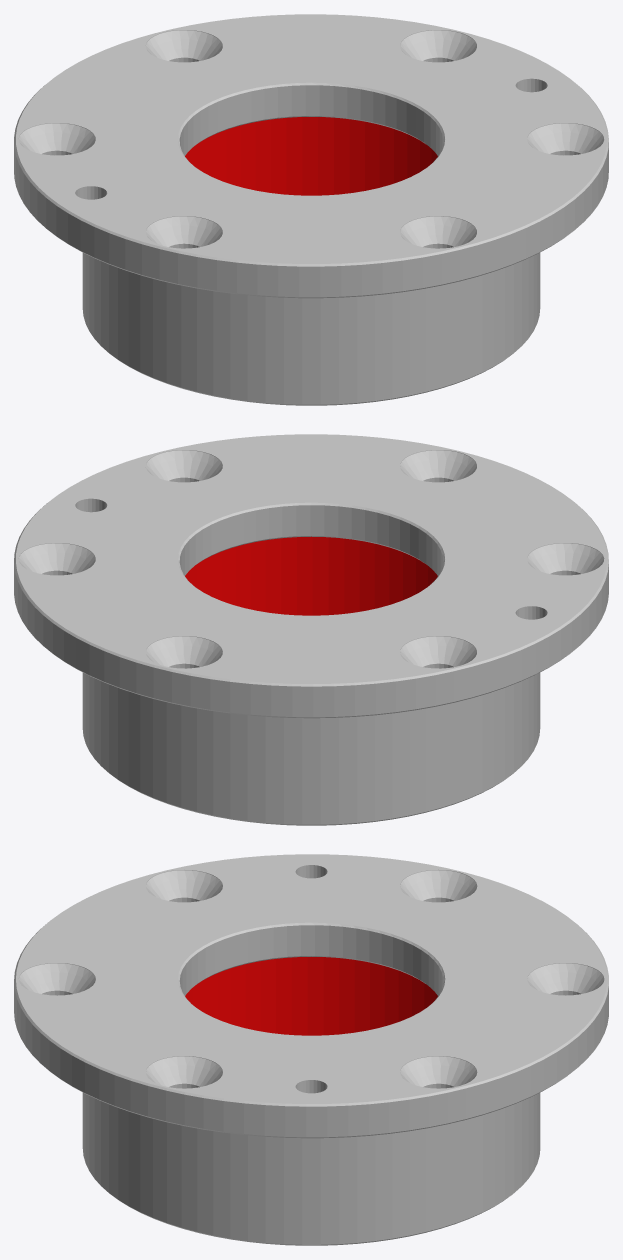
The model's file is 6_stp_9_26.obj.
The picture shows the model from 3 angles, top to bottom: view 1: azimuth 30°, elevation 25°; view 2: azimuth 150°, elevation 25°; view 3: azimuth 270°, elevation 25°; orthographic projection.
Parts seen in each view (by area): view 1: Object1; view 2: Object1; view 3: Object1.
Part boxes in pixels (<box>): Object1: <box>14,14,608,405</box>; Object1: <box>14,434,608,825</box>; Object1: <box>14,854,608,1245</box>.
Size of the model in its own units: 158 by 50 by 158.
